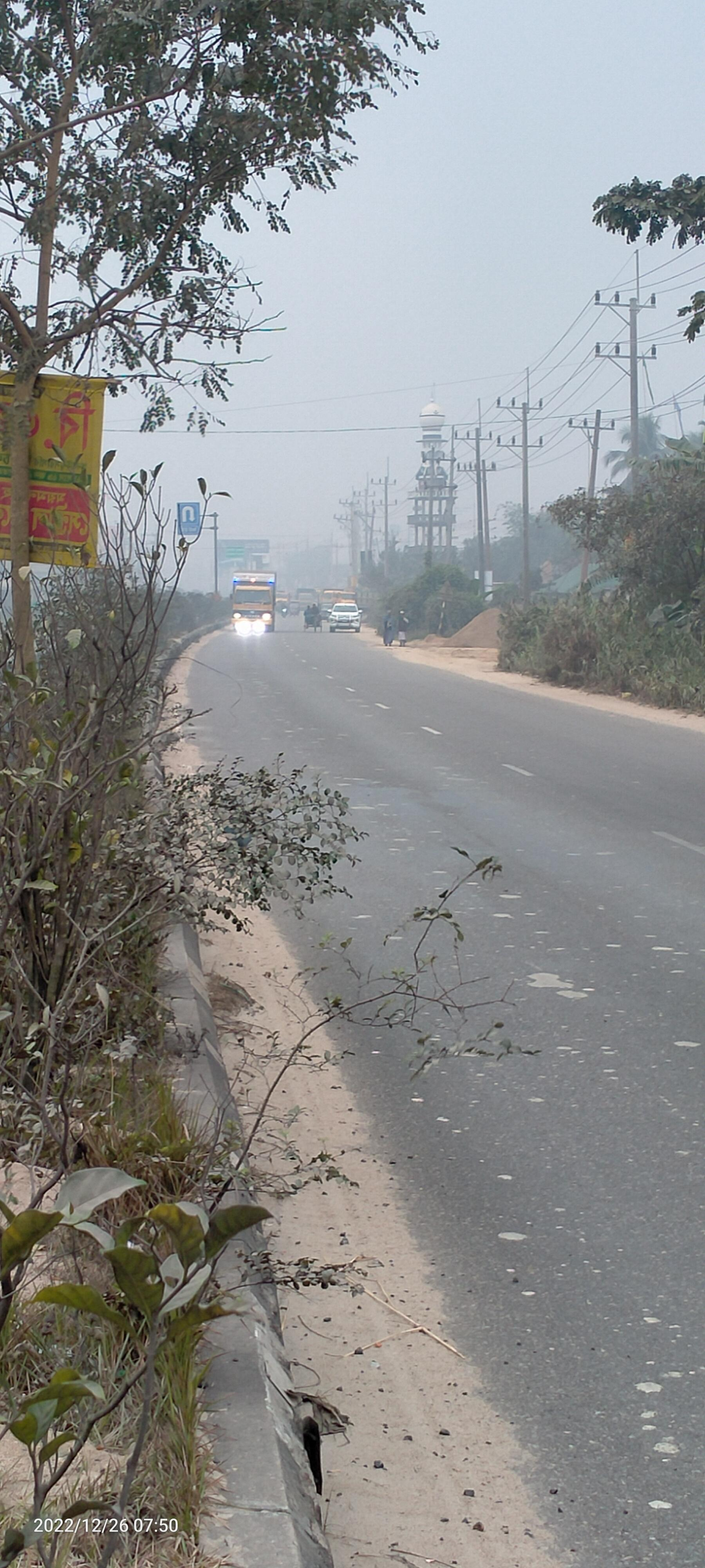Car: (325, 593, 364, 633)
Truck: (225, 564, 285, 635)
